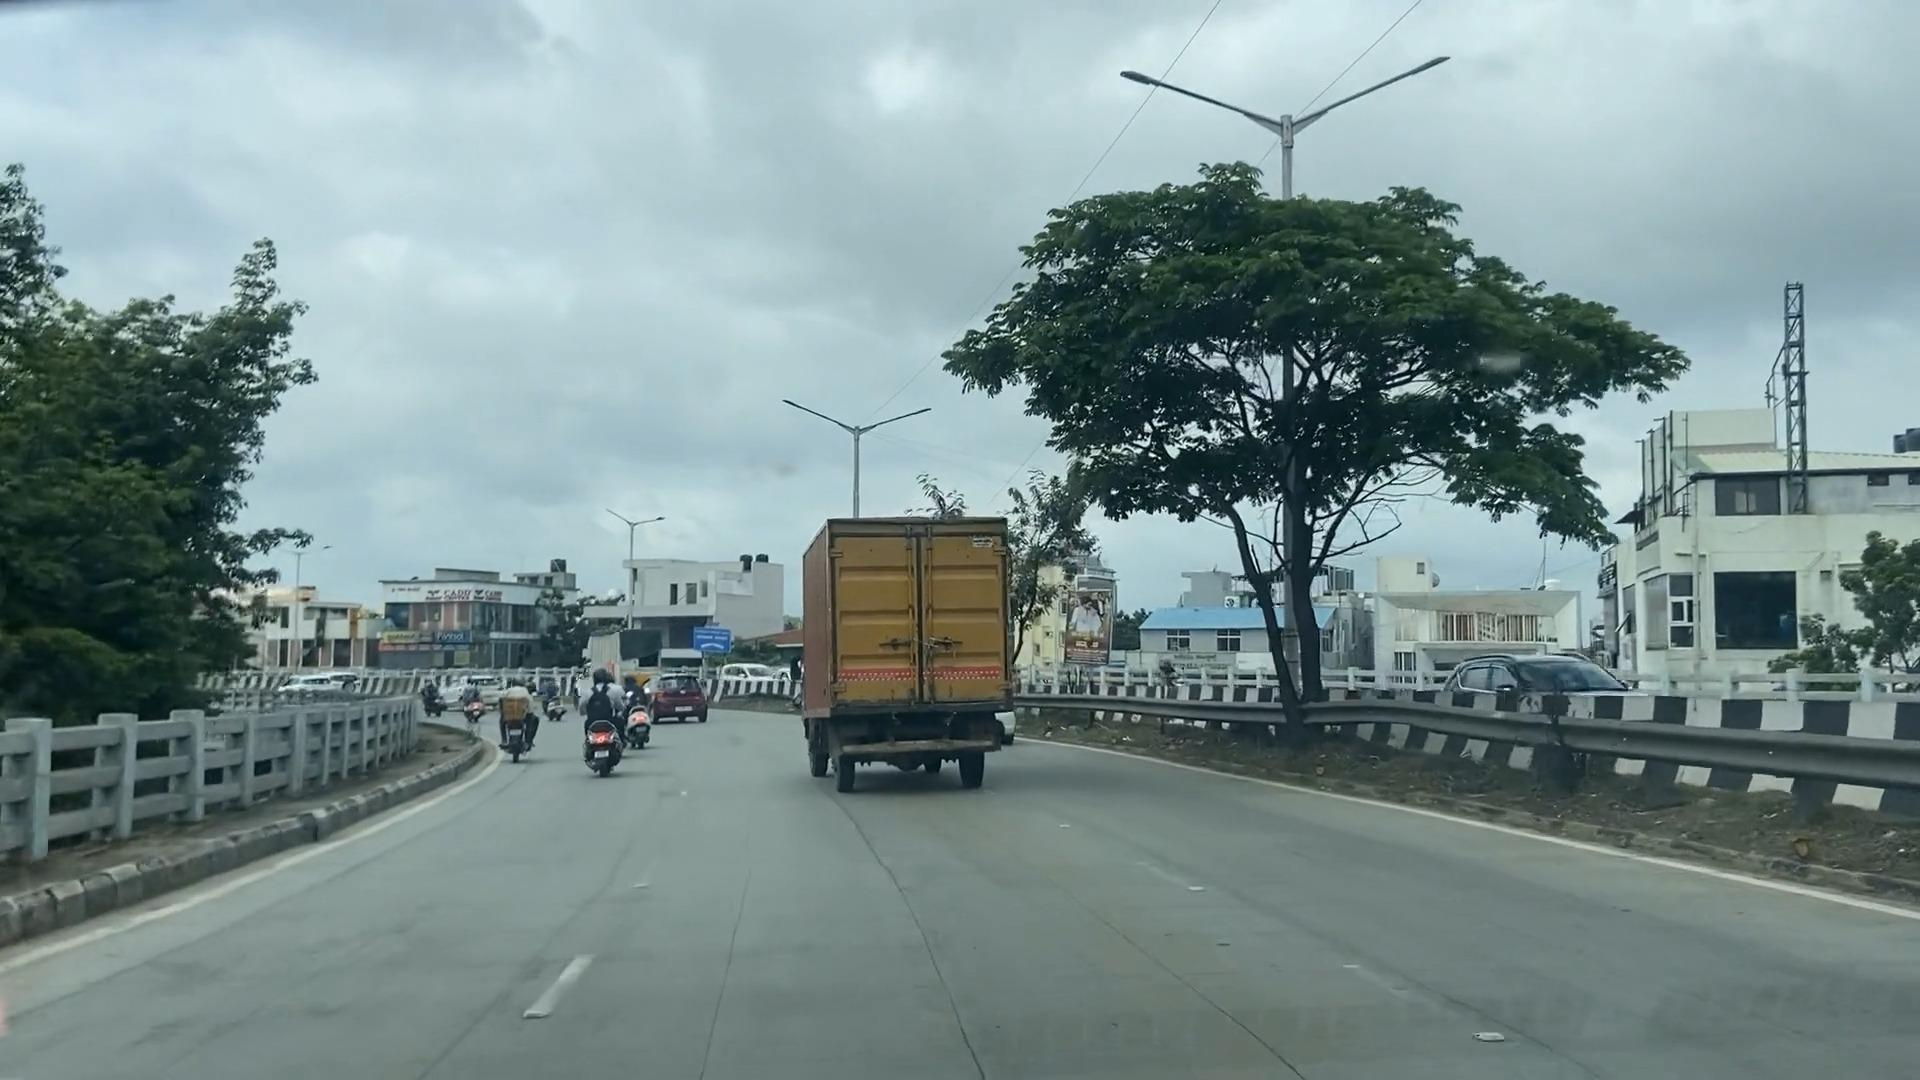HMV: (812, 500, 1001, 794)
LMV: (576, 668, 630, 778), (498, 676, 545, 774), (656, 670, 714, 722)
